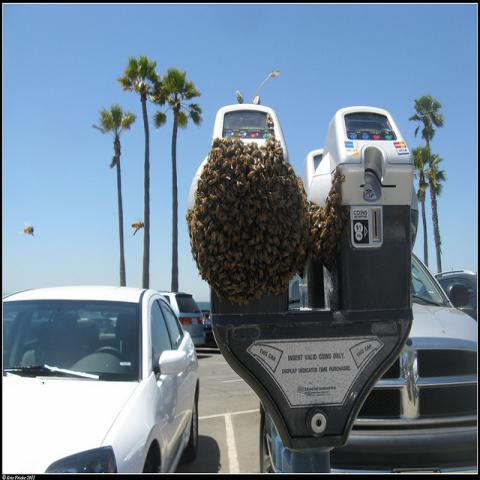car: (2, 286, 200, 474), (333, 253, 479, 475), (159, 292, 207, 350), (435, 269, 479, 322)
